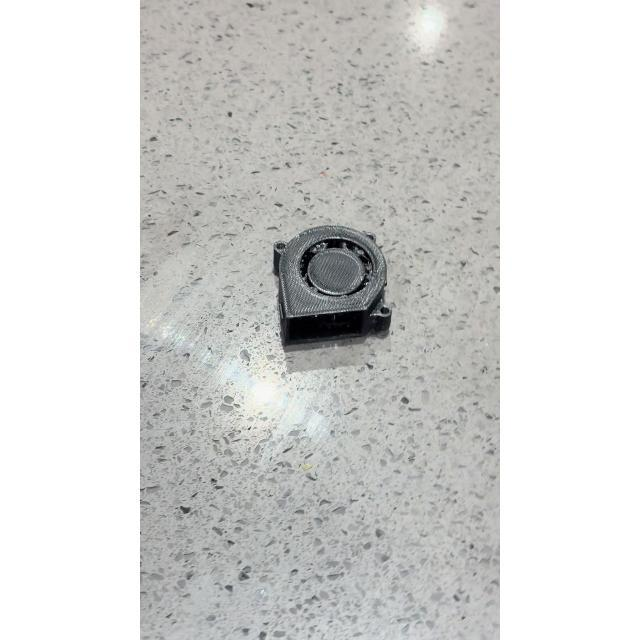Pieza3: (264, 220, 401, 364)
